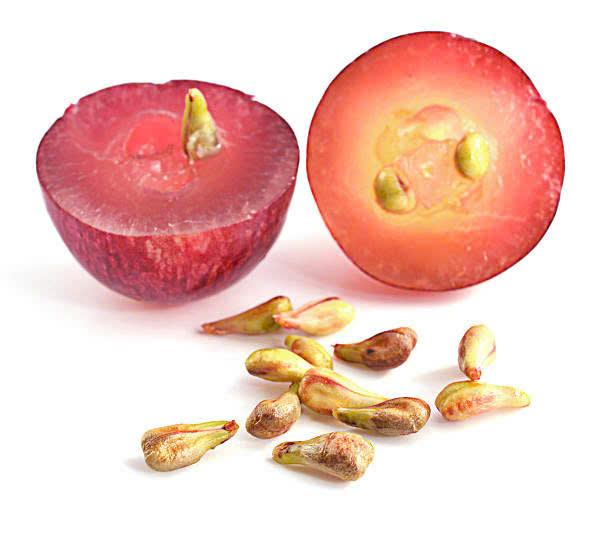grape: (301, 20, 598, 299), (24, 70, 318, 289)
